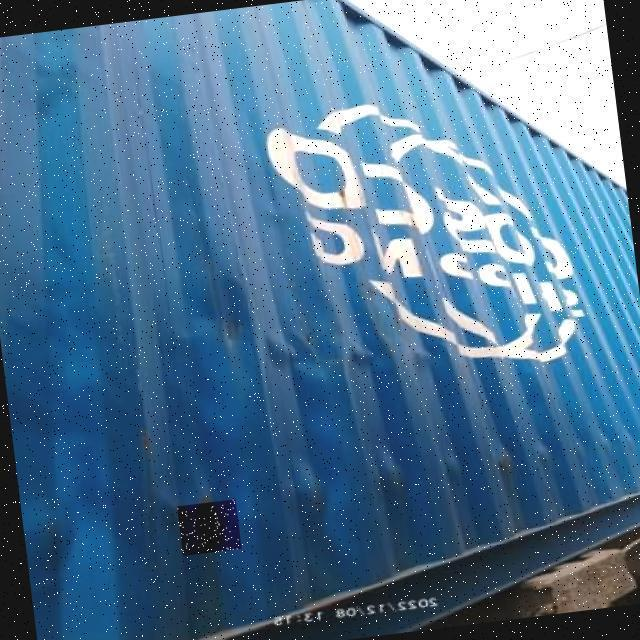rust: (178, 500, 243, 557)
